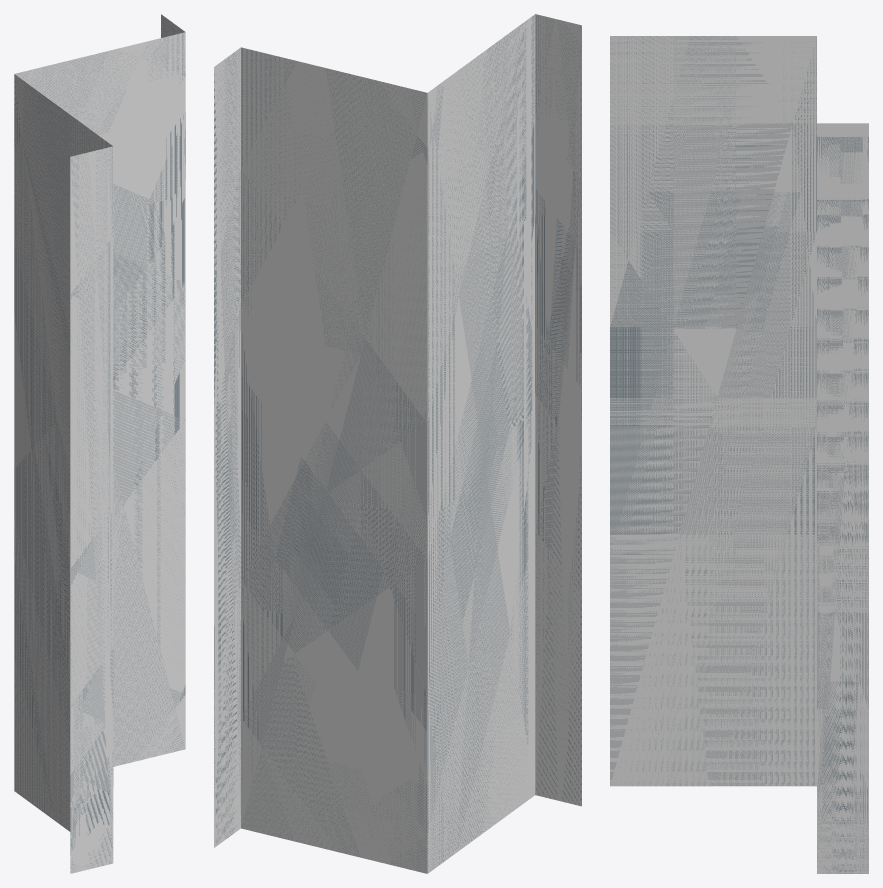
File: Corner_os_100x100x025x4.dae
The picture shows the model from 3 angles, left to right: view 1: azimuth 30°, elevation 25°; view 2: azimuth 150°, elevation 25°; view 3: azimuth 270°, elevation 25°; orthographic projection. The views are drawn at different scales.
Parts seen in each view (by area): view 1: group_0; view 2: group_0; view 3: group_0.
Part boxes in pixels (box(x1,y1,x2,y2)): group_0: box(14, 14, 185, 873); group_0: box(214, 14, 581, 873); group_0: box(610, 36, 868, 873).
Bounding box in the file's own units: 49.21 × 49.21 × 157.
